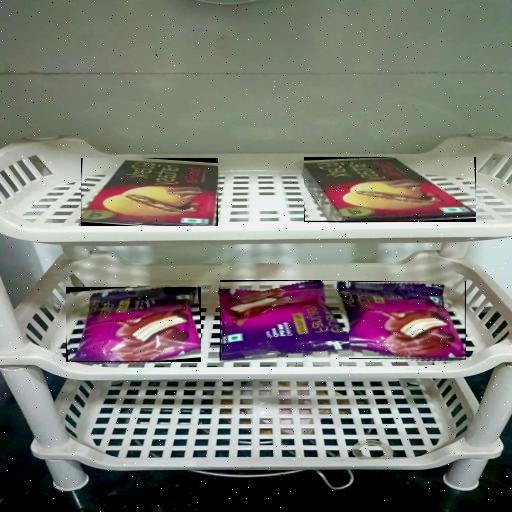Choco Fills: (304, 158, 476, 222), (81, 159, 218, 226)
Choco Pie: (220, 281, 349, 360), (70, 287, 201, 362), (338, 282, 465, 359)
